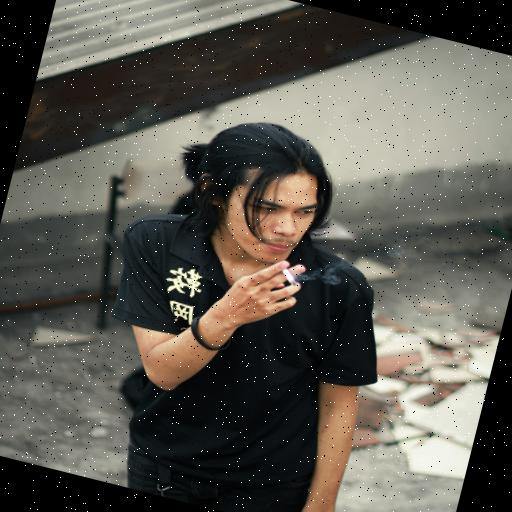terdeteksi pegang rokok: (222, 226, 324, 332)
